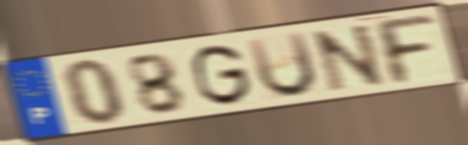0: (58, 57, 130, 127)
8: (127, 51, 187, 116)
F: (368, 13, 440, 88)
G: (190, 42, 254, 108)
N: (308, 21, 389, 95)
U: (243, 29, 320, 101)
